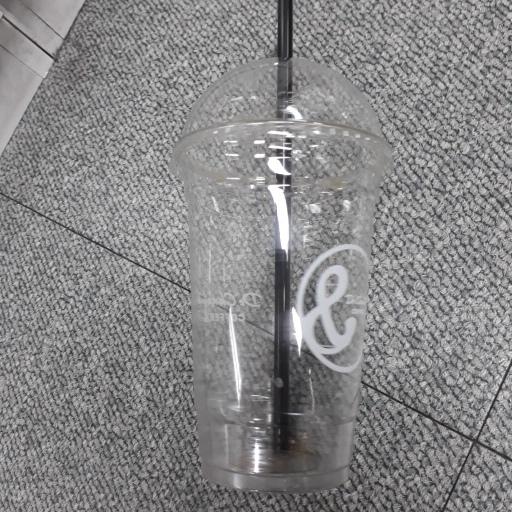Plastic_2: (173, 2, 393, 490)
